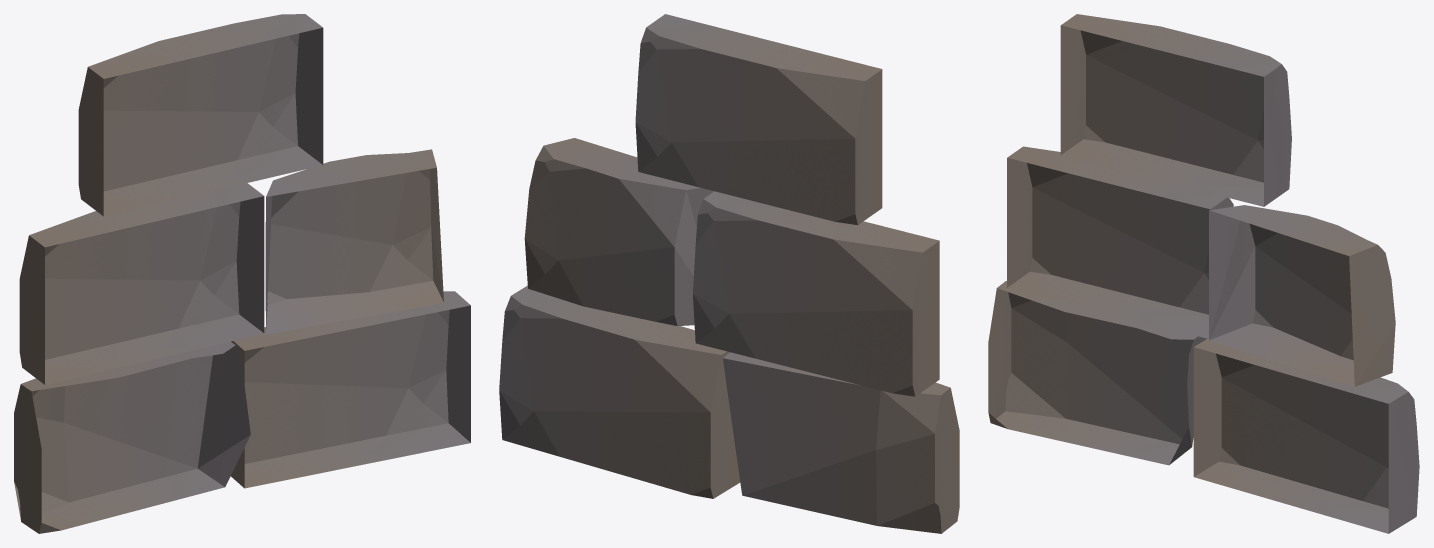
Rendered from kiln_WallL.fbx.
3 renders of one model, left to right at view 1: azimuth 30°, elevation 25°; view 2: azimuth 150°, elevation 25°; view 3: azimuth 330°, elevation 25°, orthographic. The views are drawn at different scales.
Visible parts, largest first — view 1: 立方体.023; view 2: 立方体.023; view 3: 立方体.023.
Part boxes in pixels (<box>): 立方体.023: <box>14,14,470,533</box>; 立方体.023: <box>499,14,959,533</box>; 立方体.023: <box>988,14,1419,533</box>.
Bounding box in the file's own units: 151 × 149 × 25.72.
